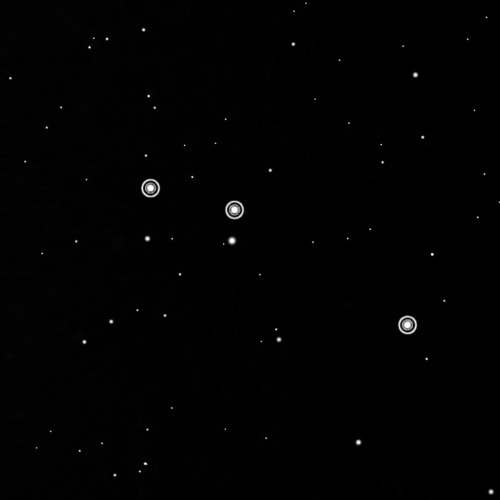vulpecula: (135, 173, 424, 338)
